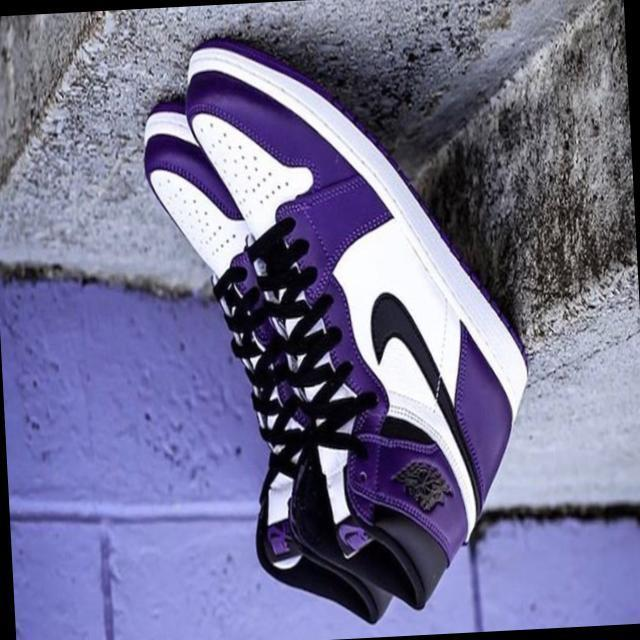nike original jordan 1: (182, 23, 543, 622), (140, 90, 403, 636)
